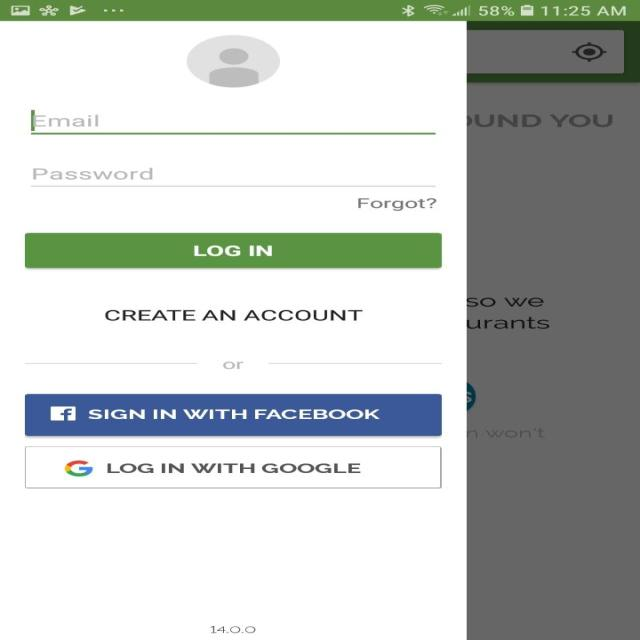Drawer: (0, 21, 467, 640)
EditText: (30, 110, 435, 135), (31, 167, 436, 187)
Icon: (186, 35, 281, 88)
Text: (105, 309, 363, 321), (33, 168, 153, 180), (358, 197, 437, 211), (32, 114, 99, 127), (210, 625, 256, 633), (222, 360, 244, 369)
TextButton: (24, 446, 442, 488), (25, 394, 442, 436), (24, 233, 442, 268)
